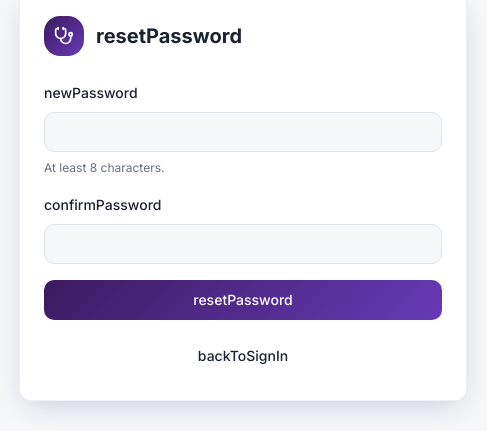
Test: password recovery screen › invalidates an earlier update when a new recovery starts for the same user
The width and height of the screenshot is (487, 431).
Type "synthetic-password" into the password field labelled "newPassword" at [243, 132], box left=44, top=112, right=442, bottom=152
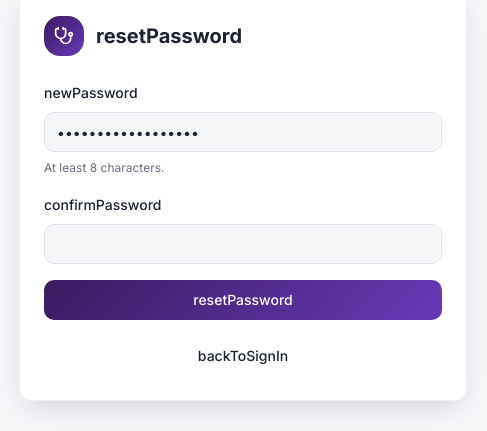
Type "synthetic-password" into the password field labelled "confirmPassword" at [243, 244], box left=44, top=224, right=442, bottom=264
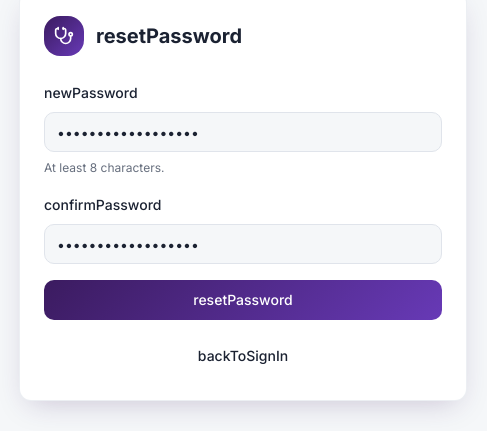
Submit the form labelled "newPassword", box left=44, top=80, right=442, bottom=376
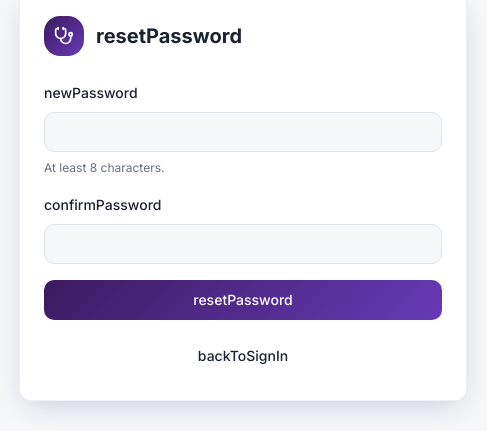
Now the password field labelled "newPassword" is empty, box left=44, top=112, right=442, bottom=152
